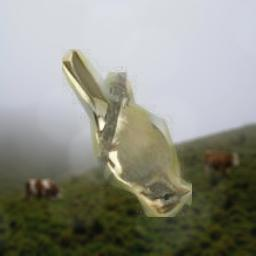Sparrow: (62, 49, 192, 217)
